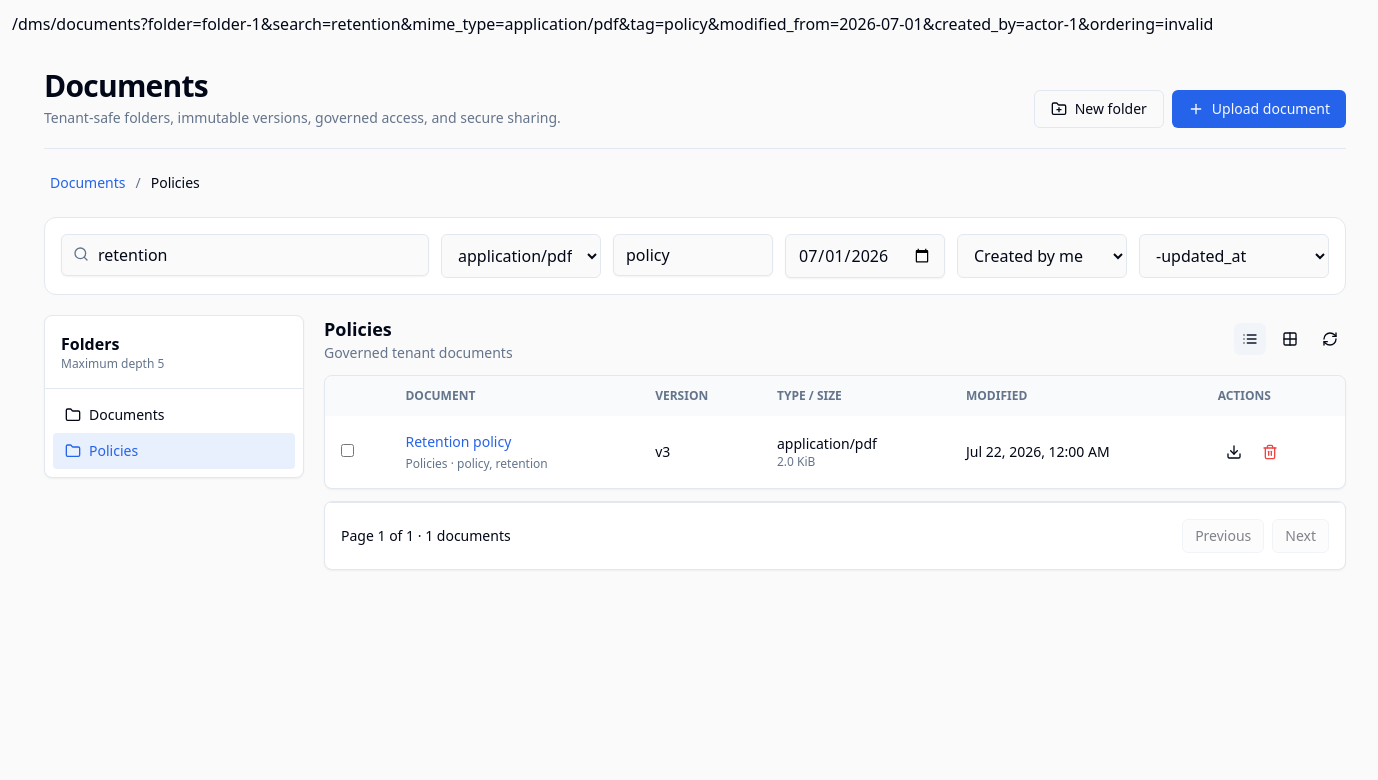
it: DocumentBrowserPage › hydrates filters from URL configuration and clears selection when filters change
This screenshot has width=1378, height=780.
Expected: the heading "Policies" is shown, [324, 317, 392, 341]
Step 1. Click the checkbox named "Select Retention policy" → (348, 450), box [341, 444, 354, 457]
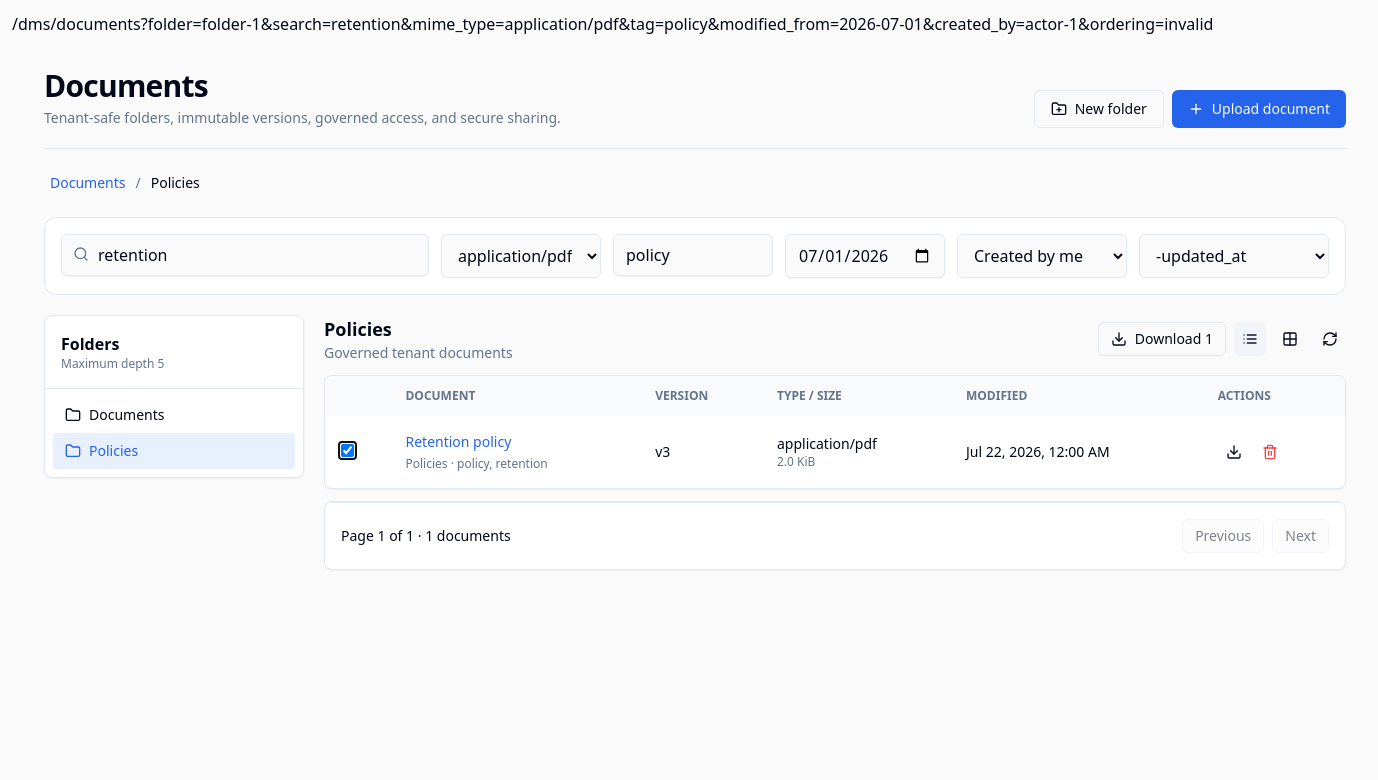
Expected: the button "Download 1" is enabled, [1098, 322, 1226, 356]
Step 2. Clear the field named "Search documents" → (245, 255), box [61, 234, 429, 276]
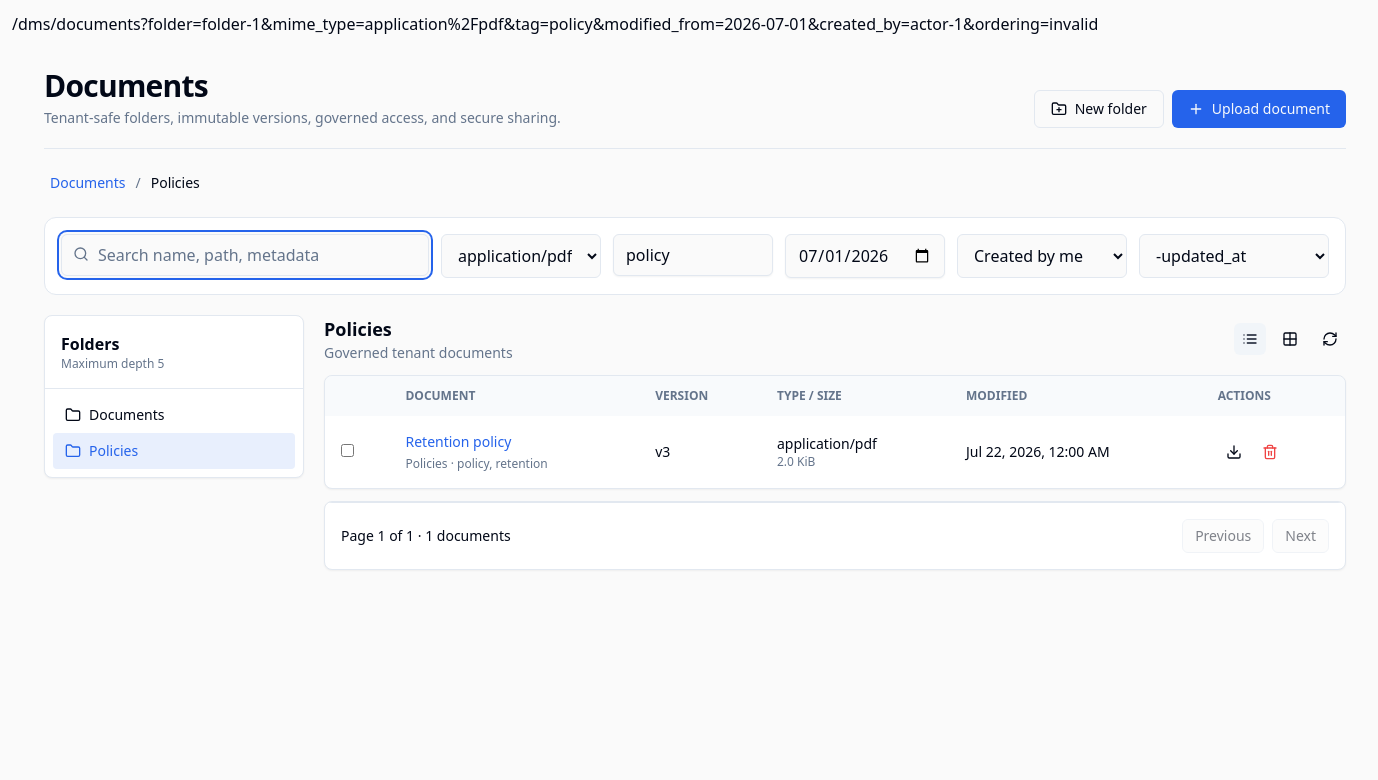
Expected: the button "Download 1" is gone
Expected: the text named "Current route" no longer shows "search=retention", [12, 13, 1098, 35]
